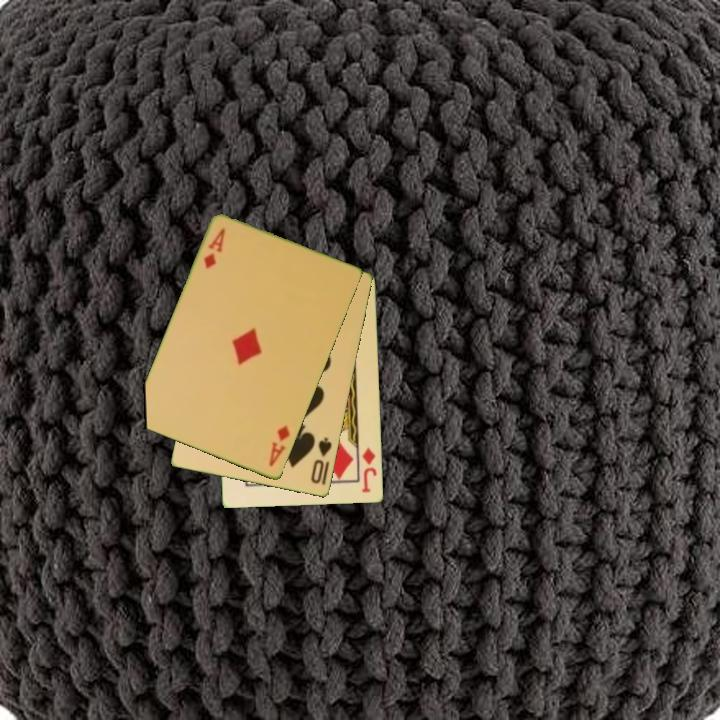10s: (308, 434, 335, 487)
Ad: (265, 422, 293, 470), (200, 225, 228, 272)
Jd: (359, 444, 379, 496)
